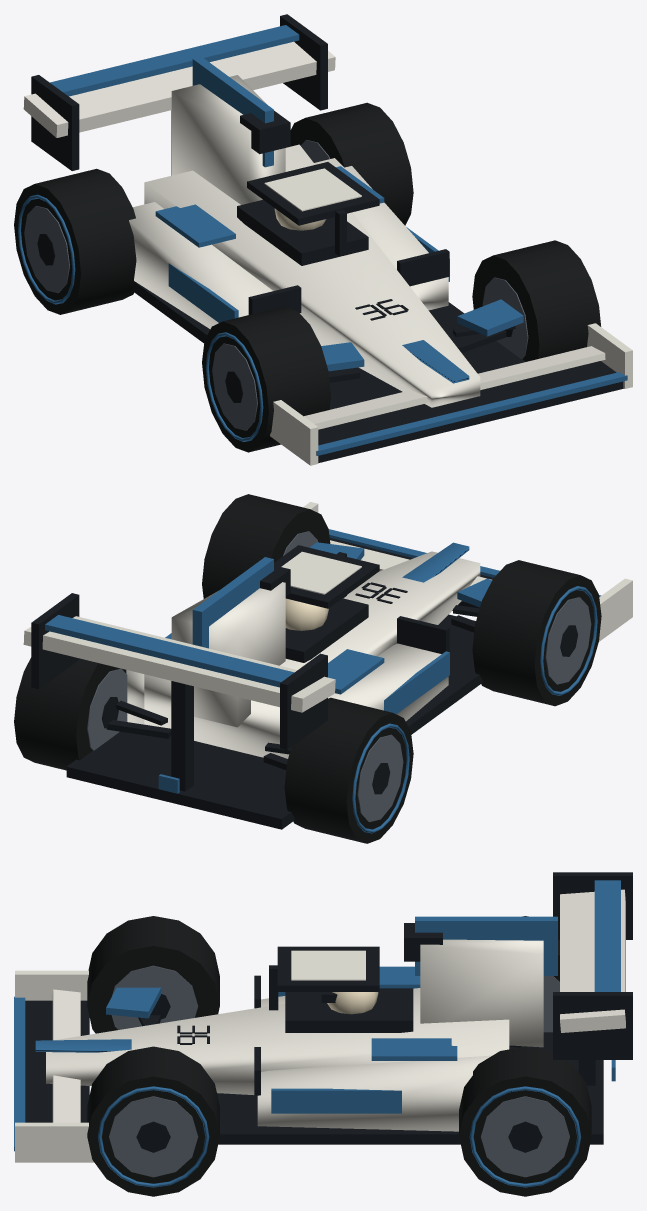
Rendered from helix-36.glb.
3 renders of one model, top to bottom at view 1: azimuth 30°, elevation 25°; view 2: azimuth 150°, elevation 25°; view 3: azimuth 270°, elevation 25°, orthographic.
Parts seen in each view (by area): view 1: formula-36, wheel (×4); view 2: formula-36, wheel (×4); view 3: formula-36, wheel (×4).
Boxes of the visible parts, left/top/right/bottom form: formula-36: left=23, top=14, right=632, bottom=465; wheel (×4): left=14, top=102, right=601, bottom=452; formula-36: left=23, top=502, right=632, bottom=829; wheel (×4): left=14, top=494, right=601, bottom=843; formula-36: left=14, top=872, right=632, bottom=1162; wheel (×4): left=87, top=916, right=591, bottom=1196.
Size of the model in its own units: 3.37 by 1.9 by 5.41.
